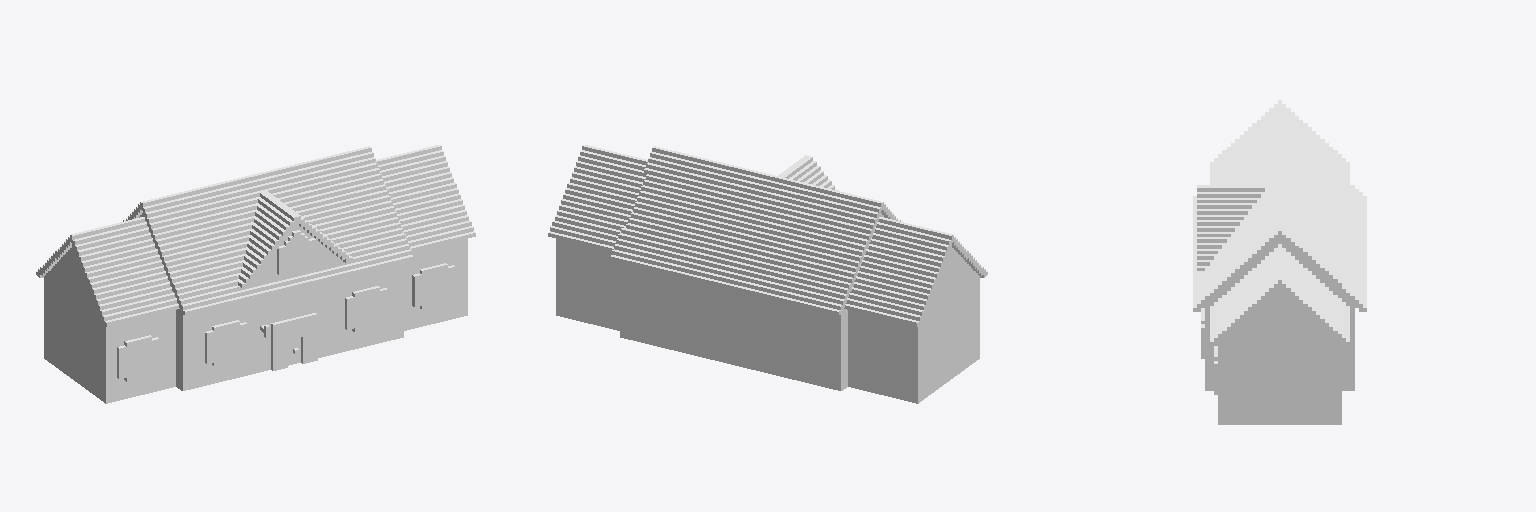
Rendered from House2.obj.
3 views of the same model, side by side, from view 1: azimuth 30°, elevation 25°; view 2: azimuth 150°, elevation 25°; view 3: azimuth 270°, elevation 25° (orthographic).
Parts seen in each view (by area): view 1: House2; view 2: House2; view 3: House2.
Boxes of the visible parts, box(x1,y1,x2,y2) form: House2: box(36, 145, 475, 403); House2: box(548, 145, 987, 403); House2: box(1193, 100, 1366, 424).
Size of the model in its own units: 100 by 42 by 41.